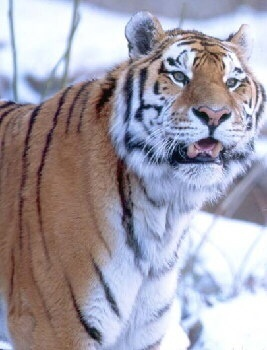tigre: (1, 9, 262, 350)
